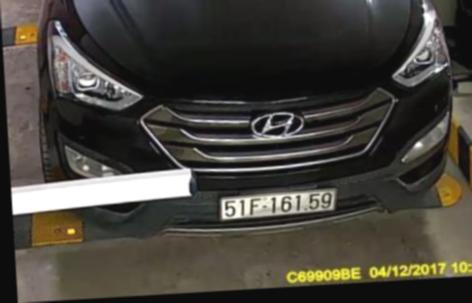License_Plate: (215, 187, 338, 227)
